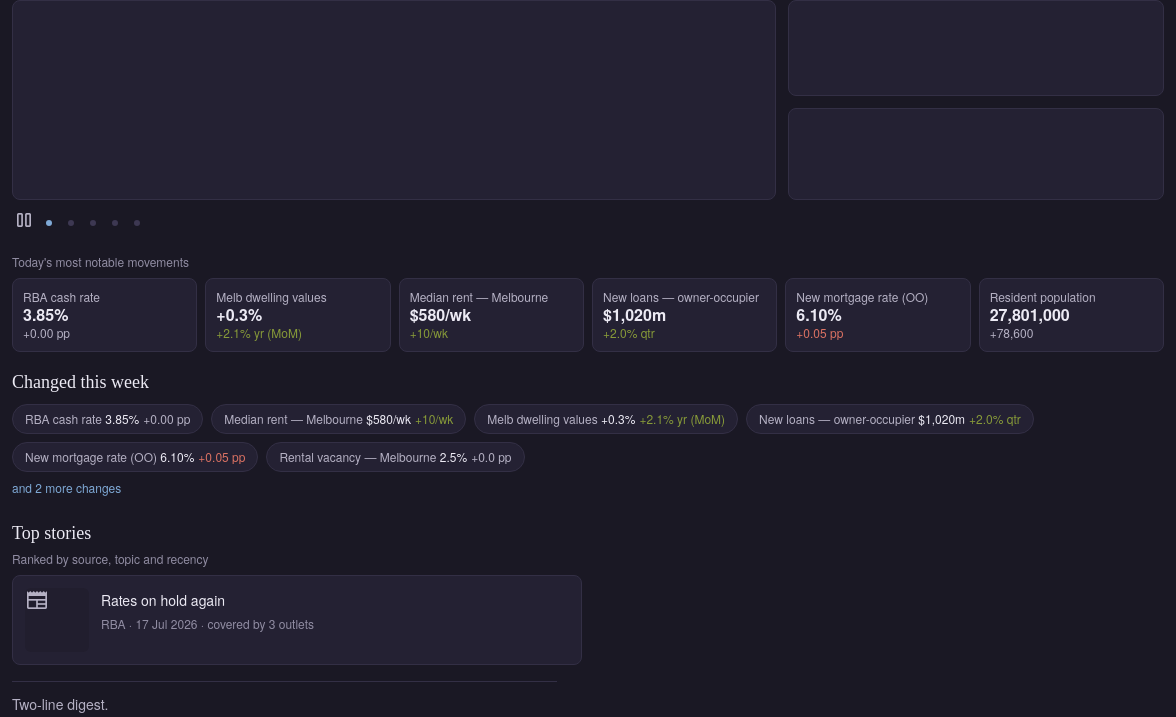
it: headline conveyor › a dot jumps straight to its finding
Click the button named "Show finding 3 of 5". click: (93, 223)
box: [84,214,102,232]
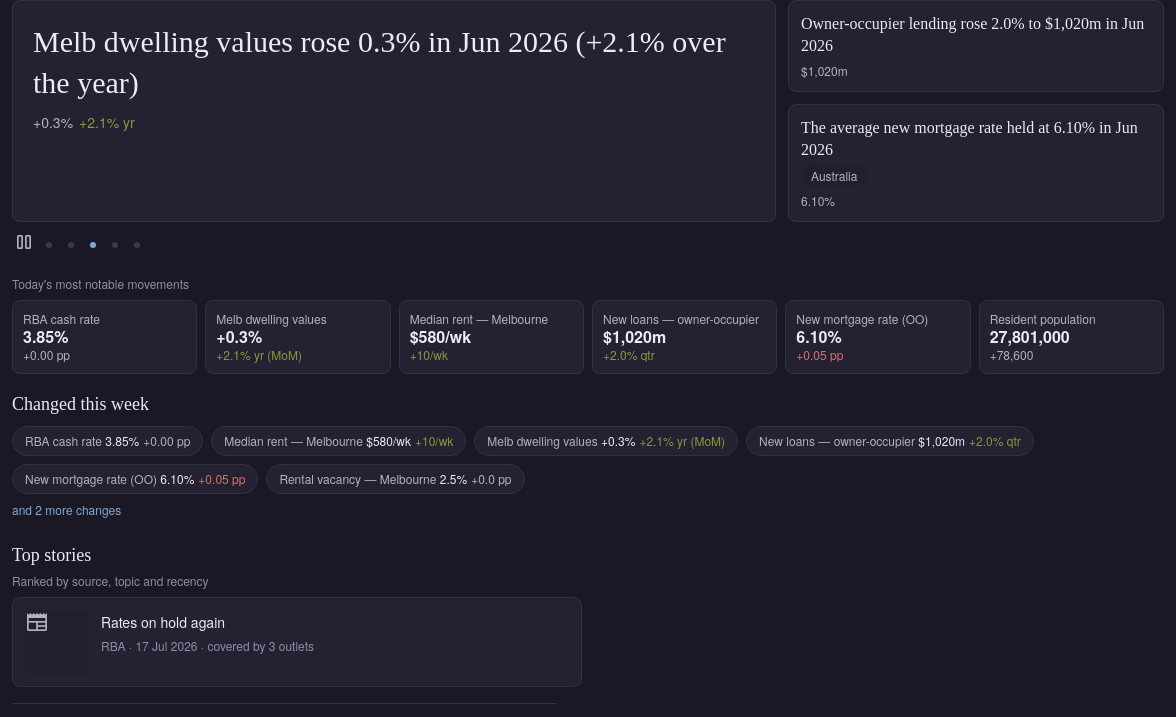
Check: the heading with test id "lead-finding" holds "Melb dwelling values rose 0.3%", box [33,21,755,104]
